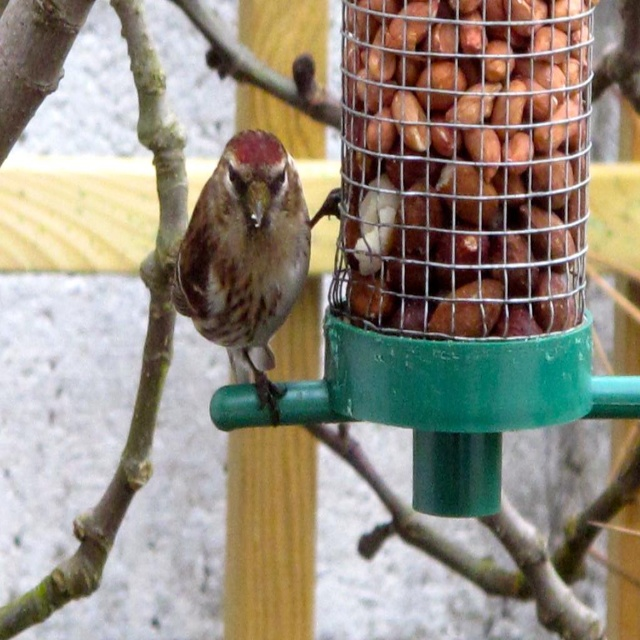Sparrow: (167, 132, 344, 427)
